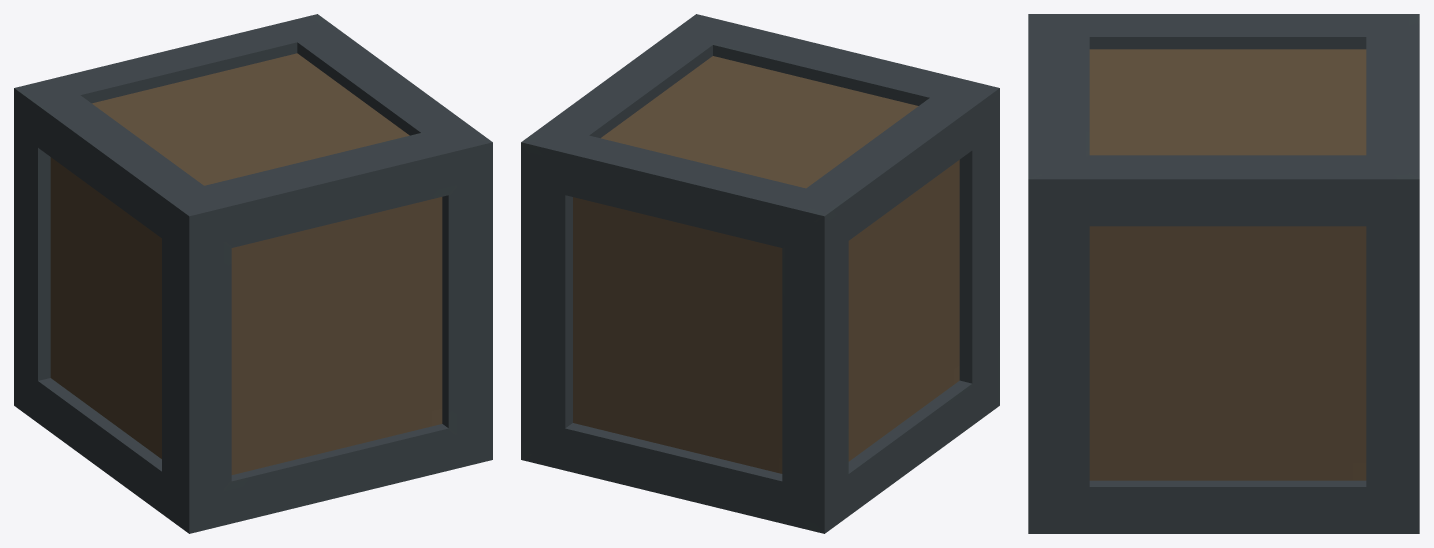
The model's file is Crate-A02.fbx.
3 views of the same model, side by side, from view 1: azimuth 30°, elevation 25°; view 2: azimuth 150°, elevation 25°; view 3: azimuth 270°, elevation 25° (orthographic). The views are drawn at different scales.
Parts seen in each view (by area): view 1: Crate-A02; view 2: Crate-A02; view 3: Crate-A02.
Boxes of the visible parts, left/top/right/bottom form: Crate-A02: left=14, top=14, right=492, bottom=533; Crate-A02: left=521, top=14, right=999, bottom=533; Crate-A02: left=1028, top=14, right=1419, bottom=533.
Bounding box in the file's own units: 77.68 × 77.68 × 77.68.
